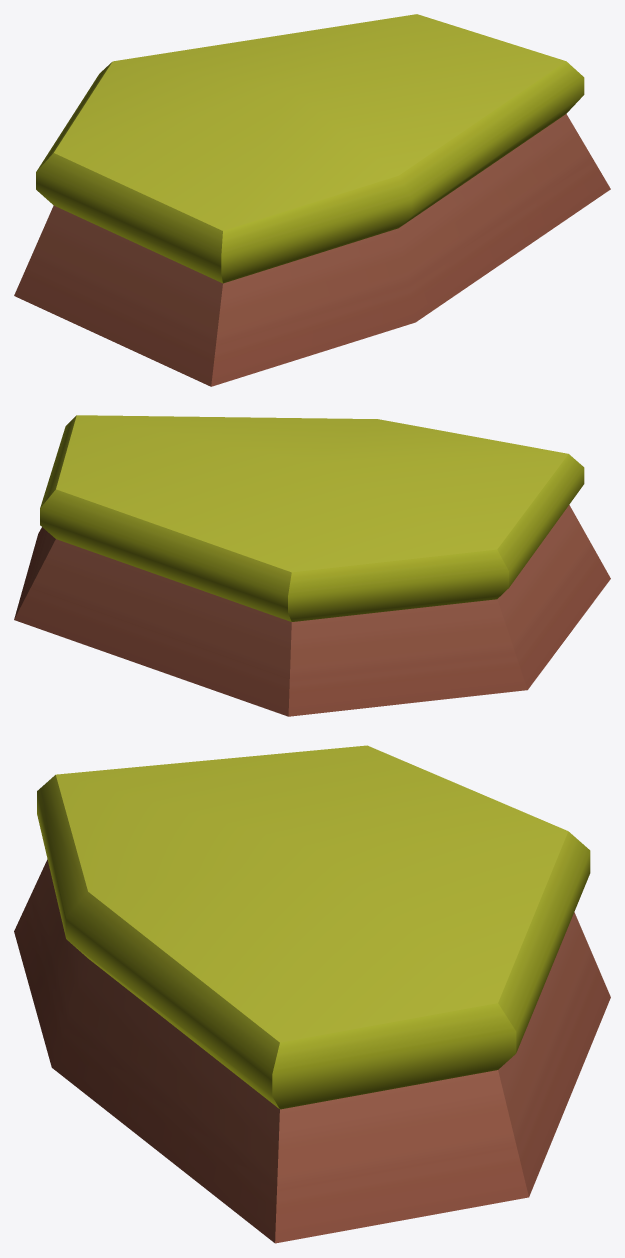
Rendered from hill_single_a.glb.
The picture shows the model from 3 angles, top to bottom: view 1: azimuth 30°, elevation 25°; view 2: azimuth 150°, elevation 25°; view 3: azimuth 270°, elevation 25°; orthographic projection. The views are drawn at different scales.
Parts seen in each view (by area): view 1: hill_single_A; view 2: hill_single_A; view 3: hill_single_A.
Boxes of the visible parts, <box> form: hill_single_A: <box>14,14,610,386</box>; hill_single_A: <box>14,415,610,716</box>; hill_single_A: <box>14,745,610,1243</box>.
Size of the model in its own units: 1.11 by 0.3073 by 0.8094.
1 material, 1 textured.
